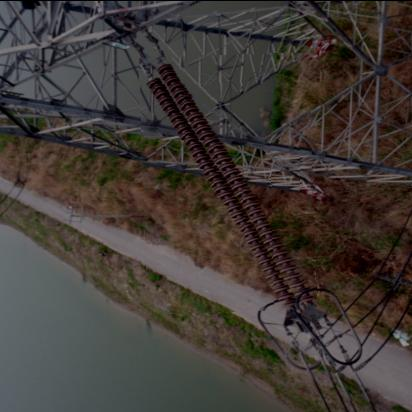insulator: (142, 54, 316, 314)
